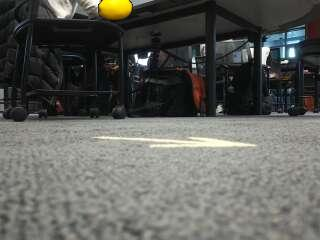lemon: (99, 0, 132, 20)
